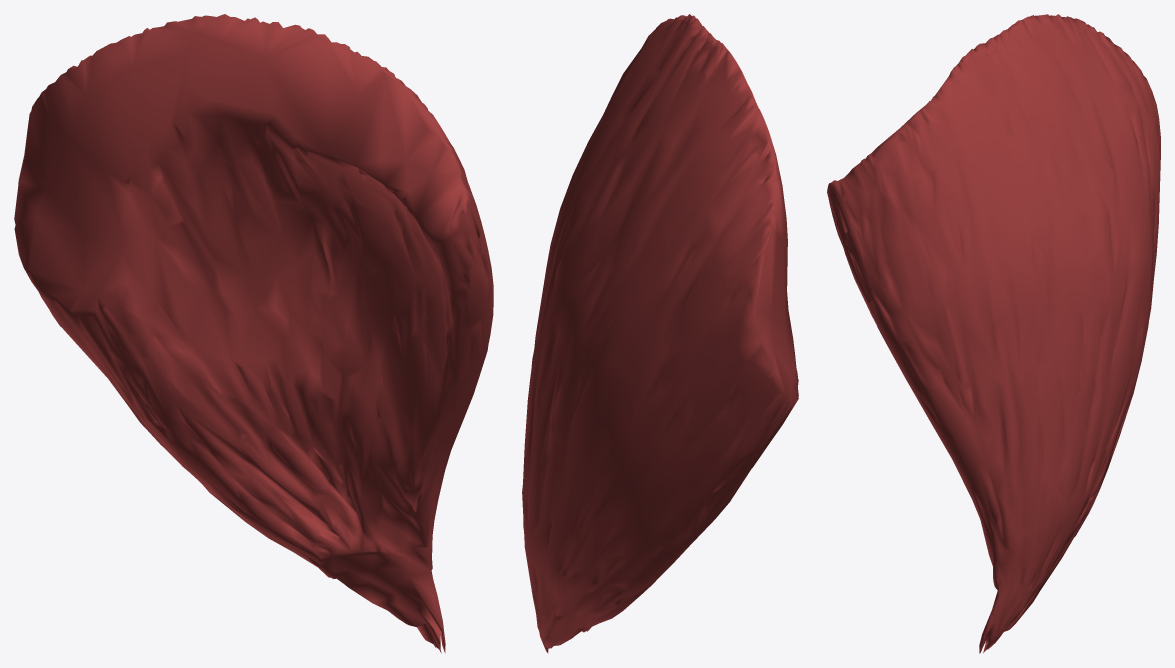
Rendered from gluteus-medius-muscle-l.glb.
3 views of the same model, side by side, from view 1: azimuth 30°, elevation 25°; view 2: azimuth 150°, elevation 25°; view 3: azimuth 270°, elevation 25° (orthographic). The views are drawn at different scales.
Visible parts, largest first — view 1: Gluteus medius muscle.l; view 2: Gluteus medius muscle.l; view 3: Gluteus medius muscle.l.
Boxes of the visible parts, box(x1,y1,x2,y2) form: Gluteus medius muscle.l: box(14, 14, 493, 653); Gluteus medius muscle.l: box(522, 14, 798, 653); Gluteus medius muscle.l: box(827, 14, 1160, 653).
Size of the model in its own units: 0.0891 by 0.168 by 0.0916.
